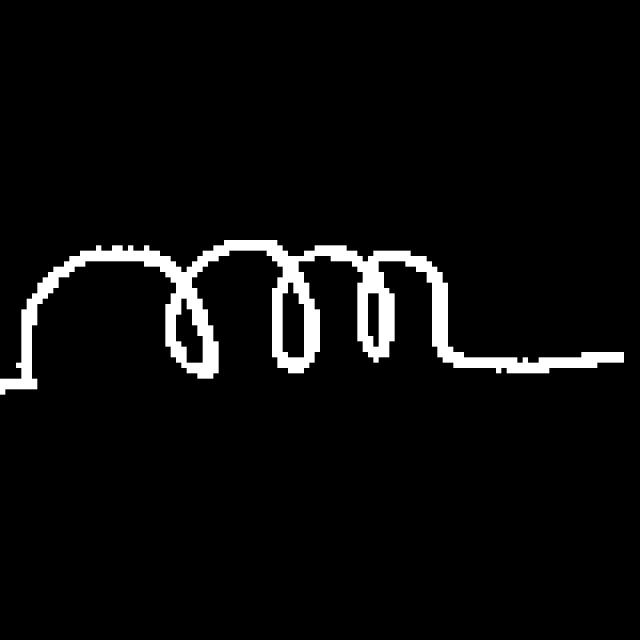inductor: (5, 231, 507, 417)
